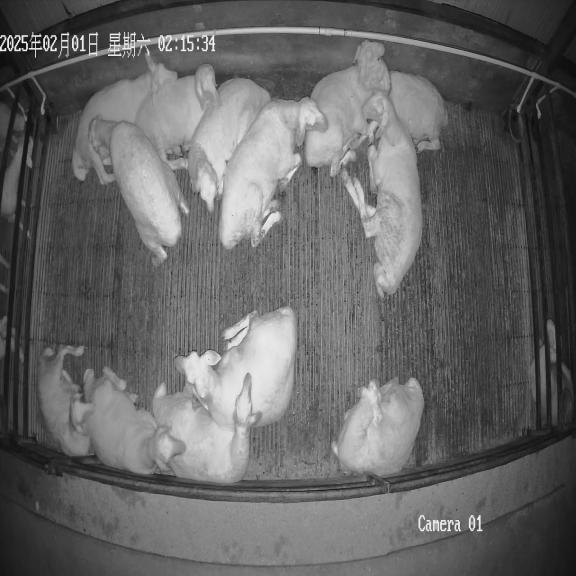lying: (342, 90, 422, 298), (219, 98, 326, 250), (176, 307, 297, 428), (72, 64, 177, 183), (152, 375, 256, 484), (188, 78, 270, 212), (305, 40, 385, 176), (83, 377, 185, 474), (331, 378, 424, 478), (364, 58, 448, 152), (135, 64, 217, 160), (37, 346, 90, 456)
stand: (90, 117, 189, 264)
